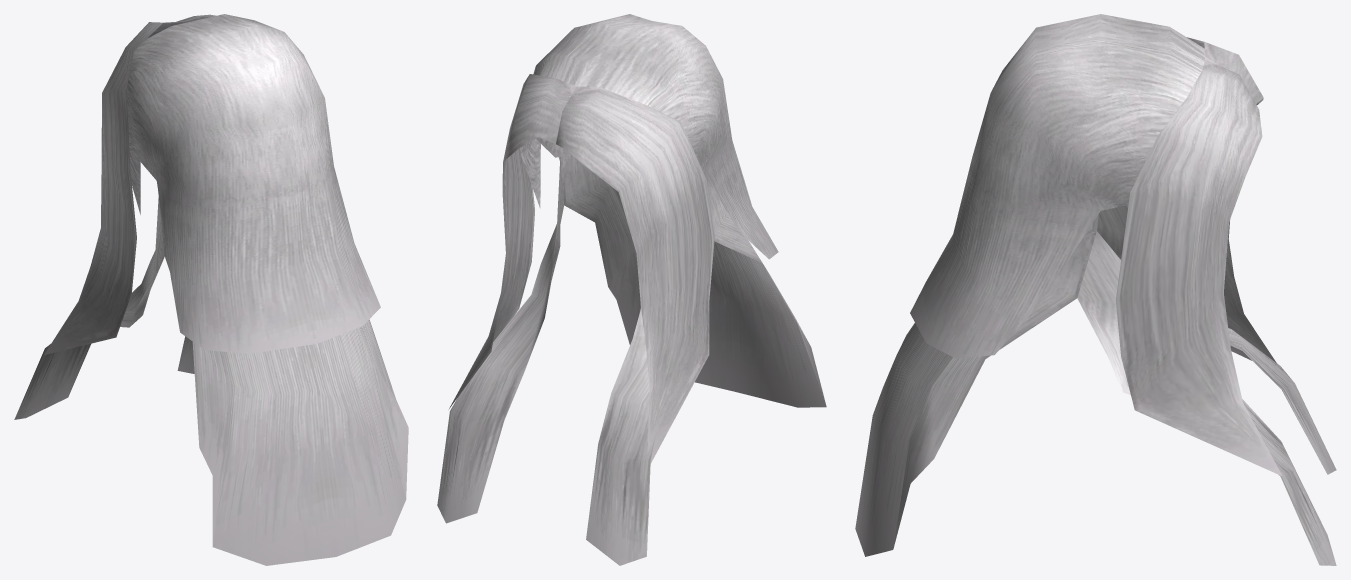
Rendered from Martial arts male hair 64.glb.
3 views of the same model, side by side, from view 1: azimuth 30°, elevation 25°; view 2: azimuth 150°, elevation 25°; view 3: azimuth 270°, elevation 25° (orthographic). The views are drawn at different scales.
Parts seen in each view (by area): view 1: 武侠男头发64_0; view 2: 武侠男头发64_0; view 3: 武侠男头发64_0.
Part boxes in pixels (x1=…): 武侠男头发64_0: x1=14, y1=14, x2=408, y2=565; 武侠男头发64_0: x1=437, y1=14, x2=826, y2=565; 武侠男头发64_0: x1=855, y1=14, x2=1336, y2=565.
Size of the model in its own units: 0.2237 by 0.4396 by 0.3831.
1 material, 1 textured.
